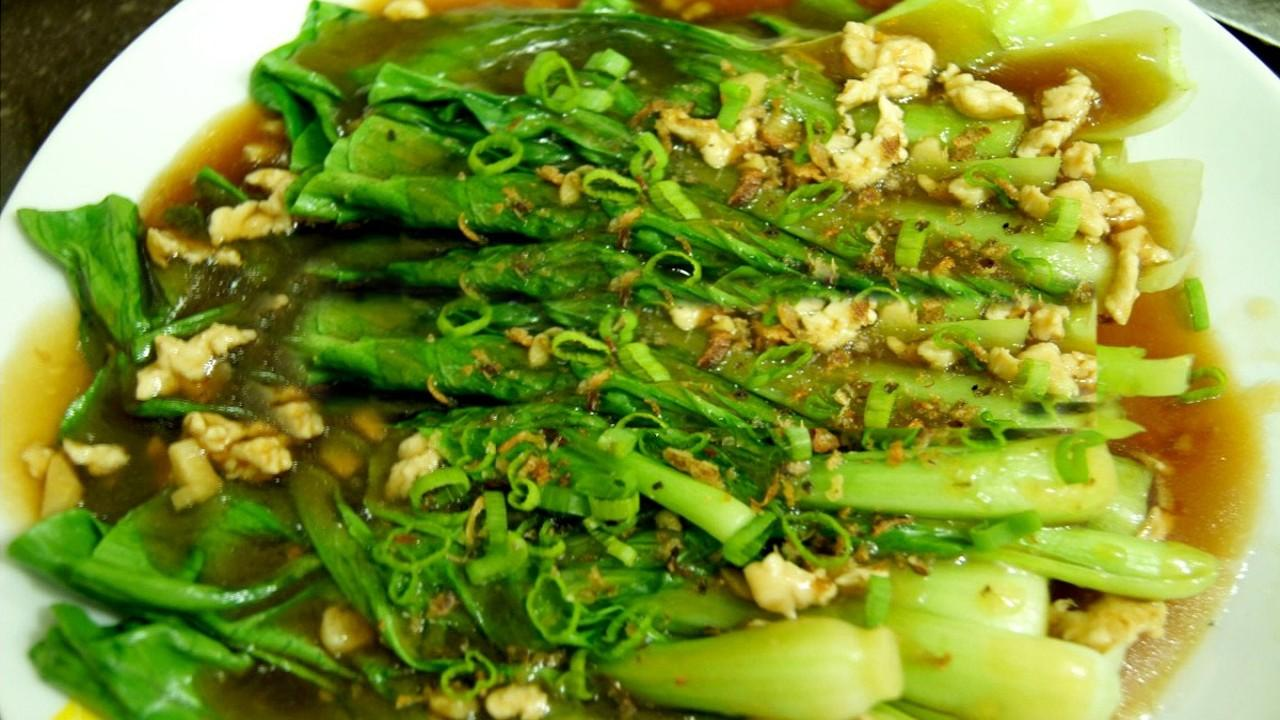buah_sayur_lainnya: (317, 50, 951, 668)
